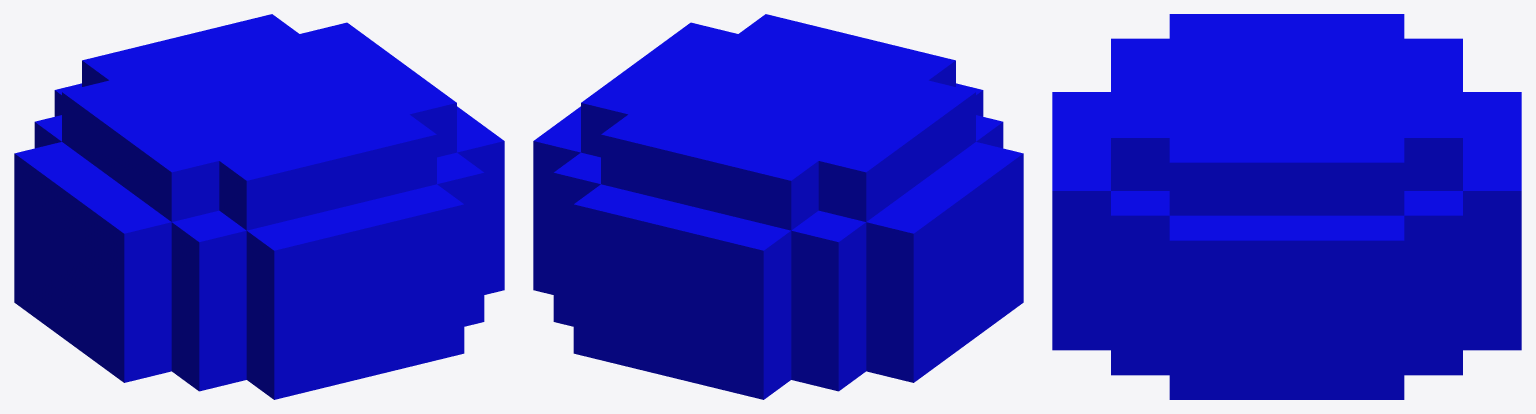
Rendered from blue_button.dae.
3 views of the same model, side by side, from view 1: azimuth 30°, elevation 25°; view 2: azimuth 150°, elevation 25°; view 3: azimuth 270°, elevation 25° (orthographic). The views are drawn at different scales.
Visible parts, largest first — view 1: blue_button; view 2: blue_button; view 3: blue_button.
Boxes of the visible parts, box(x1,y1,x2,y2) form: blue_button: box(14, 14, 504, 399); blue_button: box(533, 14, 1023, 399); blue_button: box(1052, 14, 1521, 399).
Bounding box in the file's own units: 0.8 × 0.8 × 0.4.
1 material, 1 textured.
